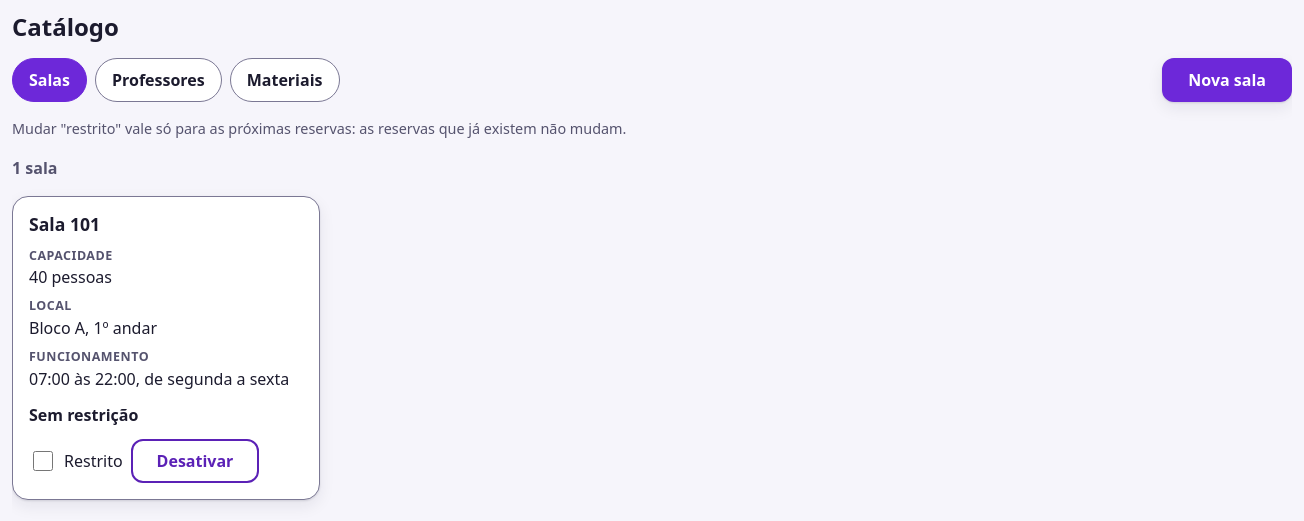
Test: PaginaDoCatalogo: abas e lista › aba sem recursos diz que não há nada cadastrado, sem erro e sem alerta
This screenshot has width=1304, height=521.
Expected: the element "Sala 101" is shown, [12,196,320,500]
Click the tab "Professores".
click(158, 80)  # box [95,58,222,102]
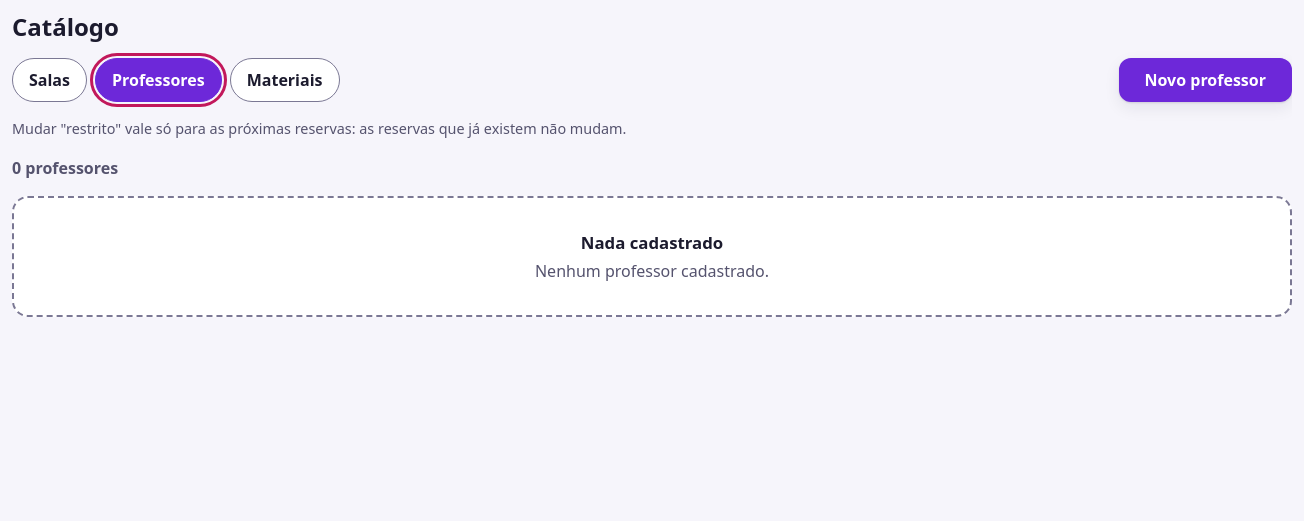
Expected: the text "Nada cadastrado" is shown, [581,231,723,254]
Expected: the text "Nenhum professor cadastrado." is shown, [535,260,769,282]
